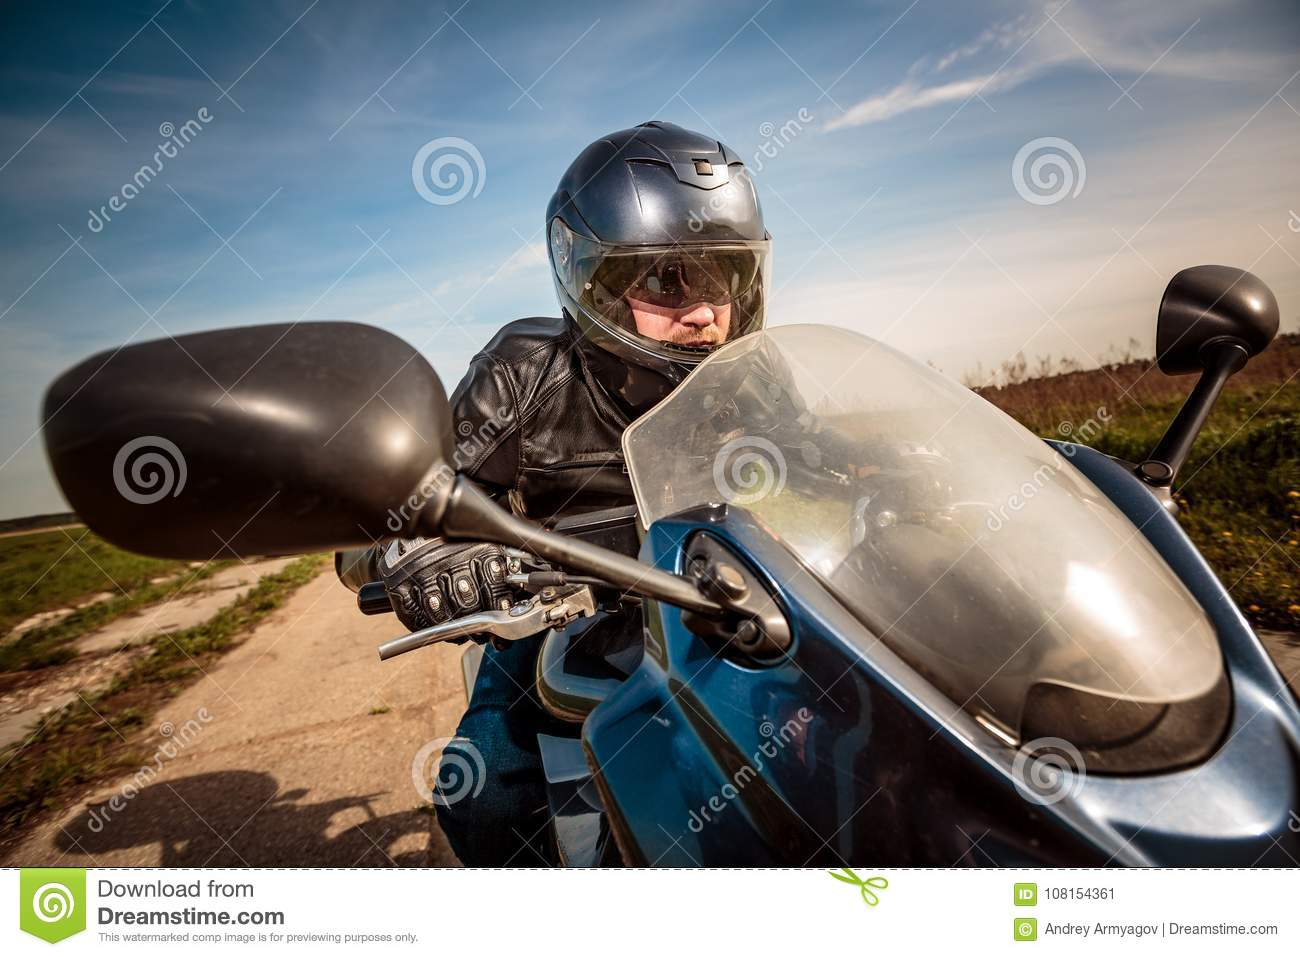helmet: (524, 124, 783, 377)
